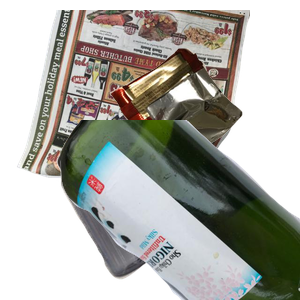glass: (60, 120, 300, 300)
paper: (14, 10, 254, 190)
plastic: (54, 136, 209, 300)
trash: (107, 46, 300, 198)
